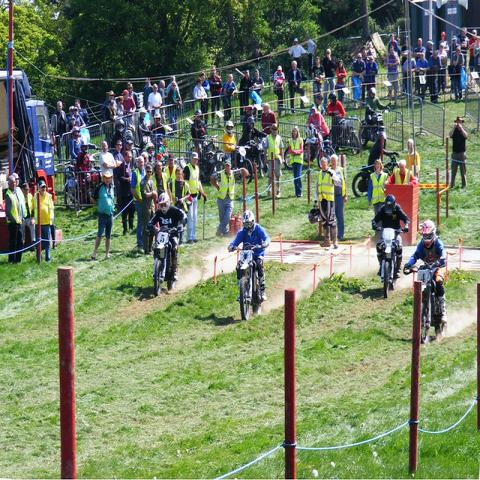motorcycle: (58, 123, 335, 214), (404, 256, 446, 346), (374, 227, 409, 299), (148, 224, 182, 298), (352, 150, 401, 198), (235, 245, 262, 323), (358, 105, 389, 148), (328, 116, 362, 155), (246, 128, 270, 179), (199, 148, 226, 184), (232, 146, 254, 186)
truck: (0, 70, 37, 176), (28, 100, 56, 194)
